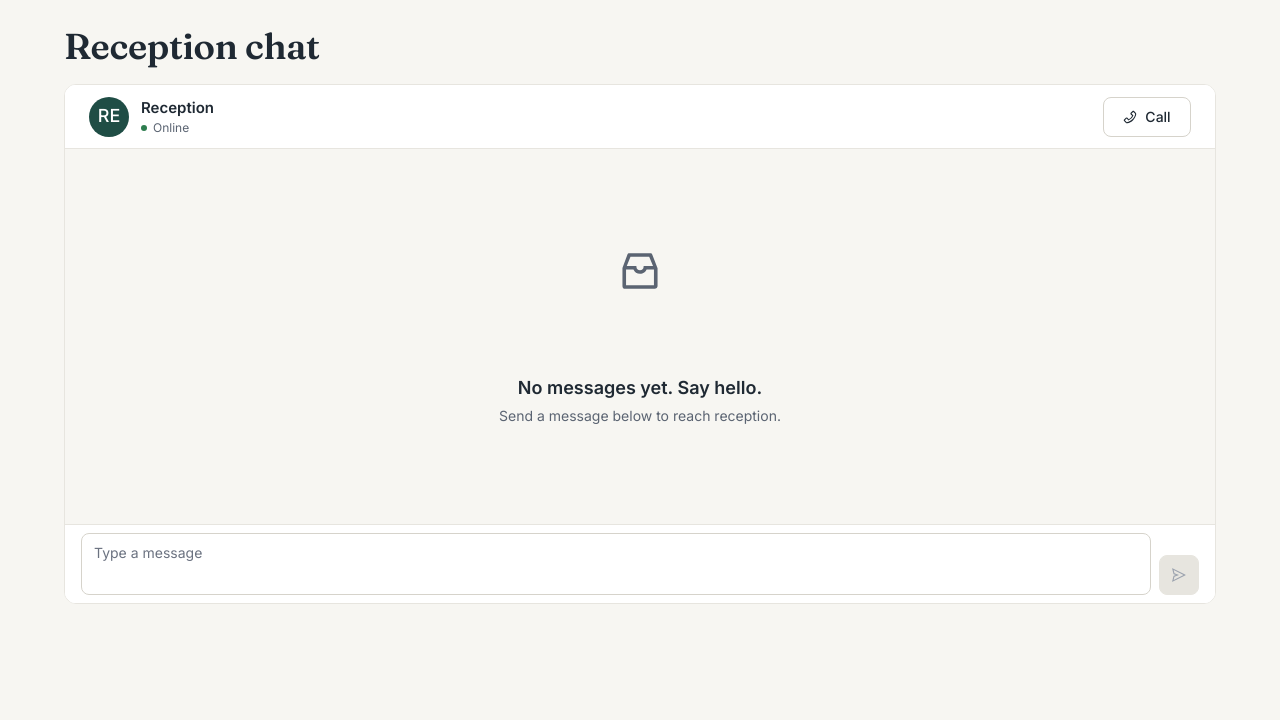
Test: CallPopup and call state machine › transitions idle -> outgoing ringing -> connected -> mute -> ended with 02:14 system pill -> idle, and ignores Escape
This screenshot has width=1280, height=720.
Later steps or results of the test are not shown.
Expected: the text "No messages yet. Say hello." is shown, [499, 374, 781, 400]
Note: Clicking thread header 'Call' button starts outgoing call
Step 1. Click the button "Call" → [1147, 116], box [1103, 96, 1191, 136]
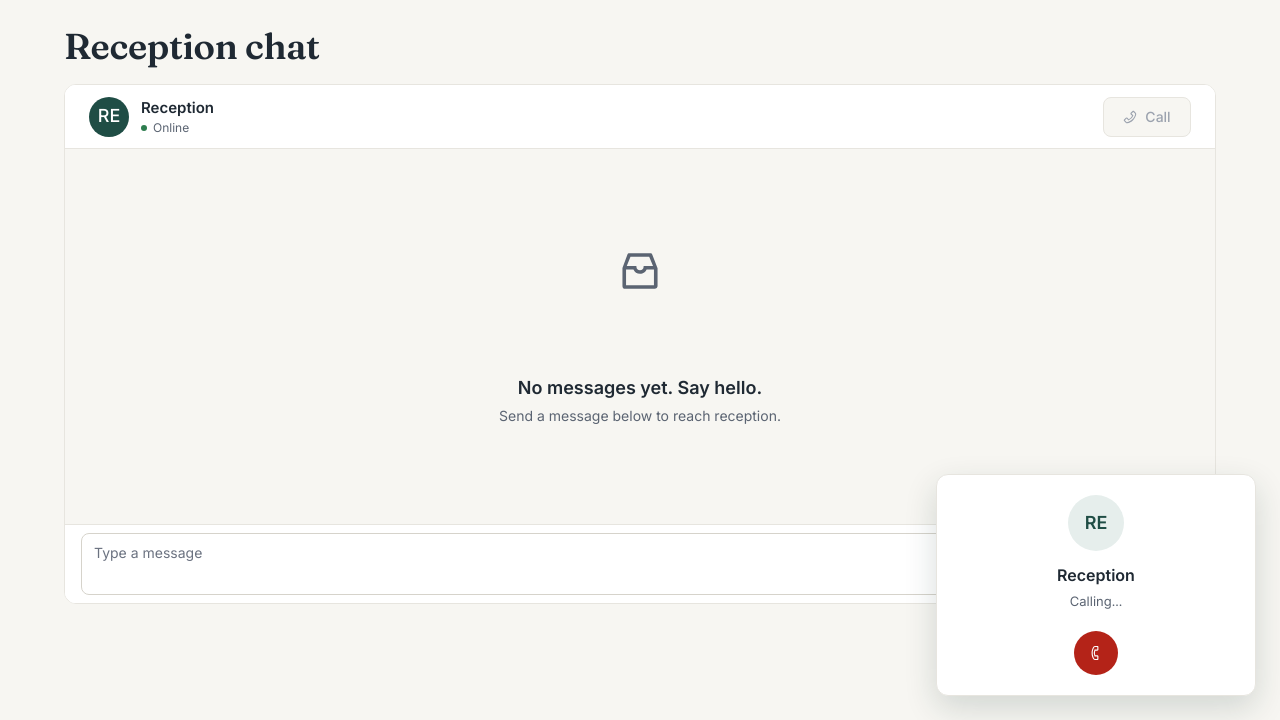
Expected: the message with test id "call-status-text" reads "Calling...", [1070, 593, 1122, 609]
Note: Pressing Esc must NOT end or dismiss the call
Step 2. Press Escape in the dialog named "Audio call with Reception", box [936, 474, 1256, 696]
Wait 136000 ms
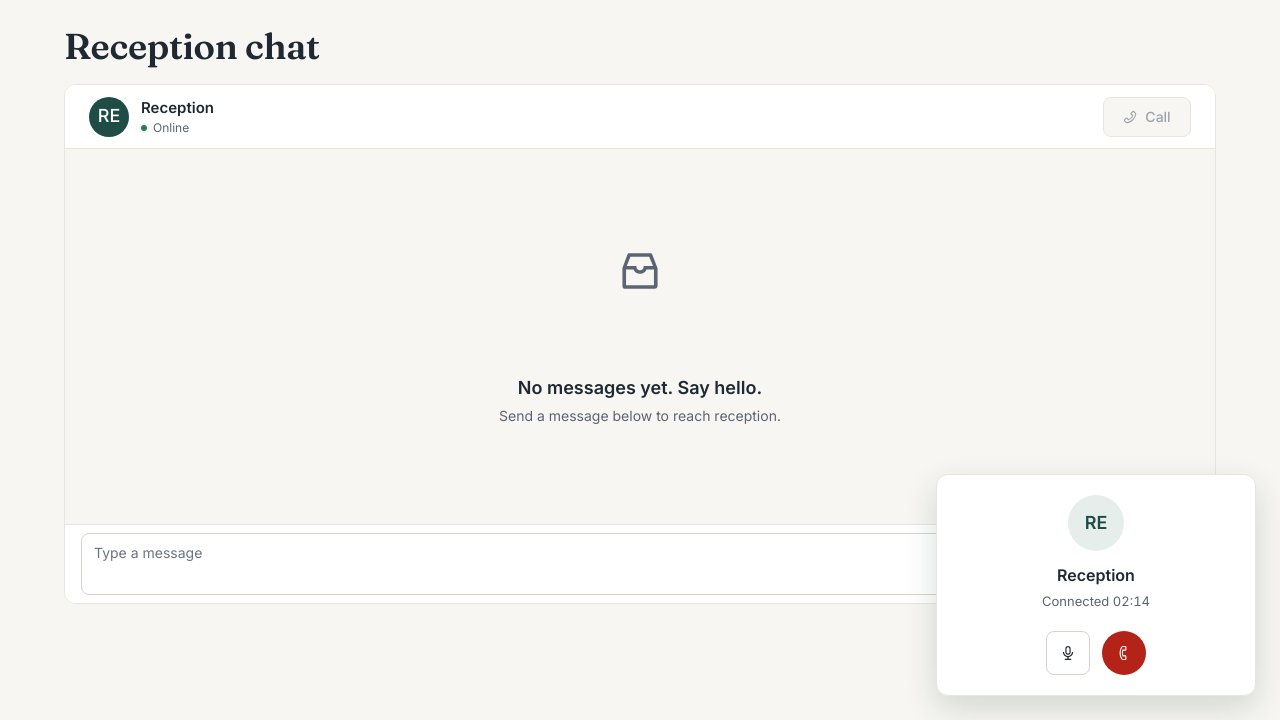
Expected: the dialog is shown, [936, 474, 1256, 696]
Expected: the message with test id "call-status-text" reads "Connected 02:14", [1042, 593, 1150, 609]
Note: Mute icon toggles CallEngine & aria-pressed
Step 3. Click the button named "Mute microphone" → [1068, 653], box [1046, 631, 1090, 675]
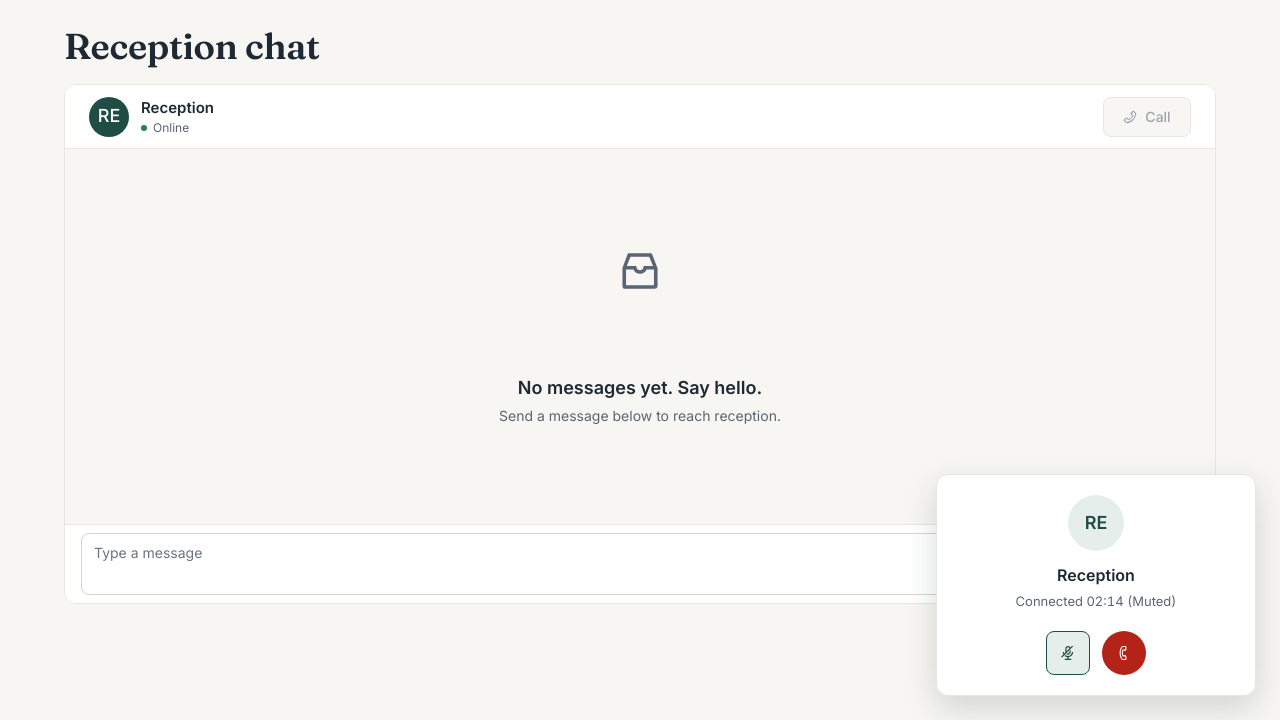
Expected: the message with test id "call-status-text" shows "(Muted)", [1124, 593, 1176, 609]
Note: End call emits call:end, cleans engine, transitions to ended, and appends 'Call ended 02:14' system pill
Step 4. Click the button named "End call" → [1124, 653], box [1102, 631, 1146, 675]
Wait 3000 ms
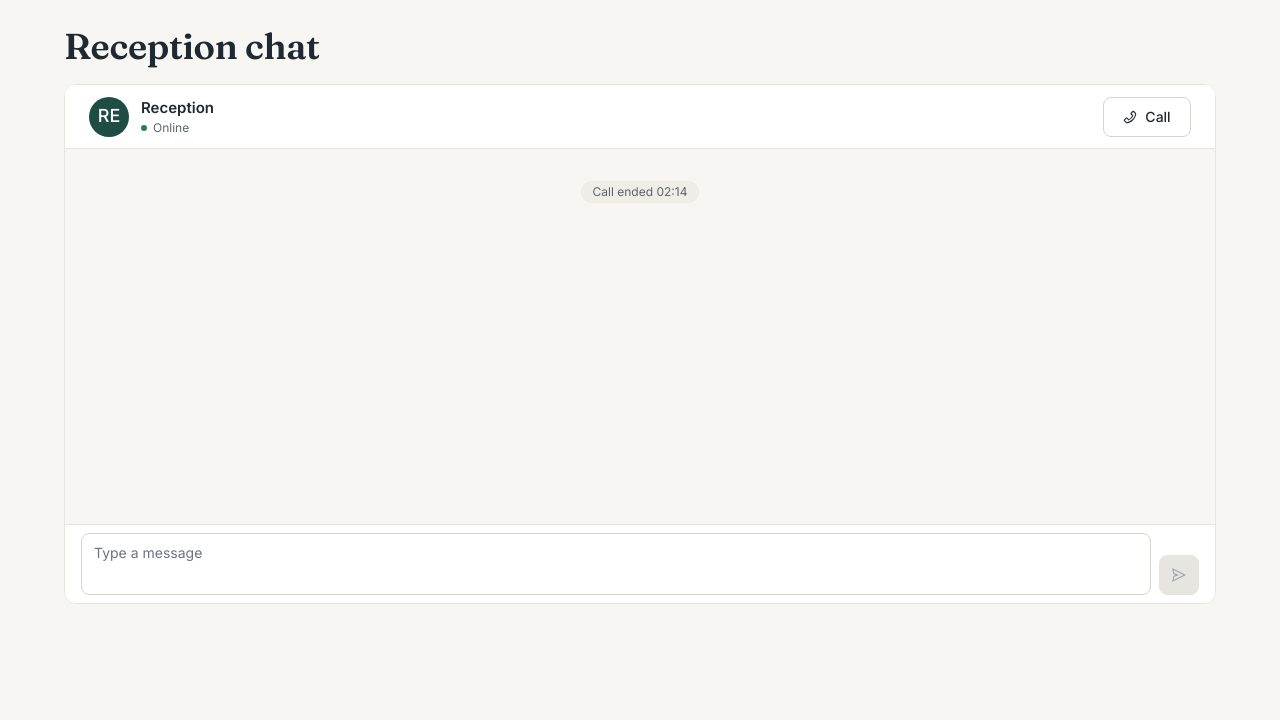
Expected: the text "Call ended 02:14" is shown, [581, 181, 699, 203]
Expected: the dialog is gone
